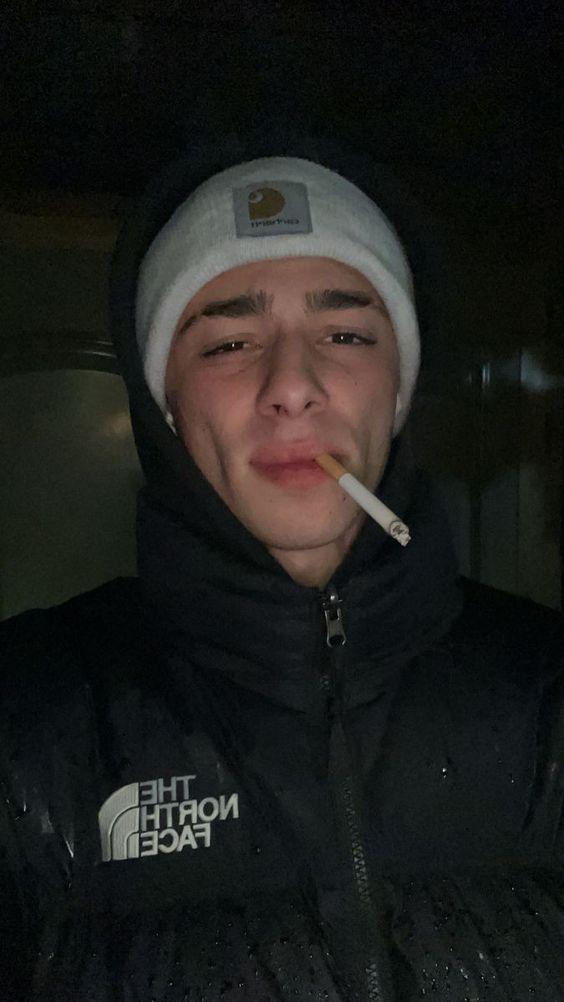cigarette: (315, 456, 412, 545)
